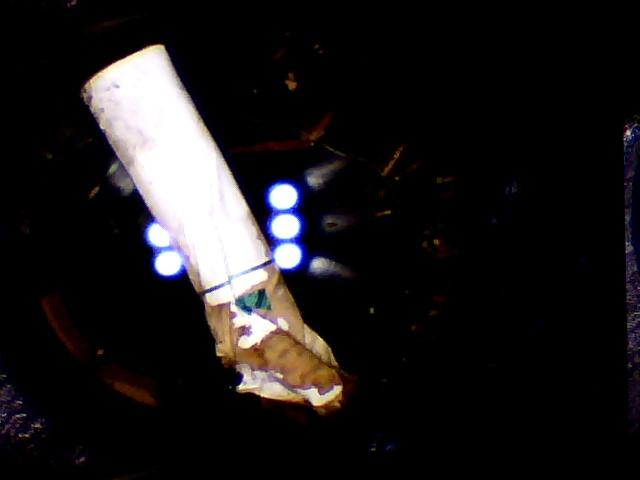megot: (77, 25, 357, 433)
